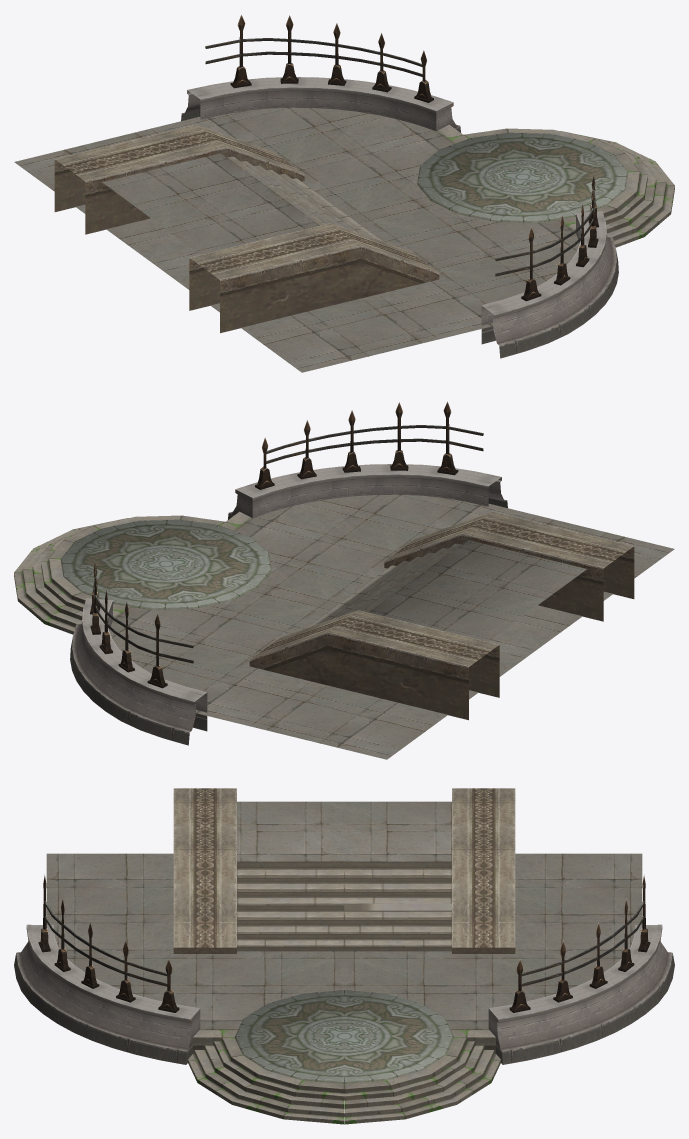
Rendered from zc_zhanchang001_chushengdian02_55_28_4130out.fbx.
3 views of the same model, one above another, from view 1: azimuth 30°, elevation 25°; view 2: azimuth 150°, elevation 25°; view 3: azimuth 270°, elevation 25° (orthographic). The views are drawn at different scales.
Visible parts, largest first — view 1: 0001_zc_zhanchang001_chushengdian02, 0002_zc_zhanchang001_chushengdian02, 0005_zc_zhanchang001_chushengdian02, 0003_zc_zhanchang001_chushengdian02, 0004_zc_zhanchang001_chushengdian02, 0000_zc_zhanchang001_chushengdian02; view 2: 0001_zc_zhanchang001_chushengdian02, 0002_zc_zhanchang001_chushengdian02, 0005_zc_zhanchang001_chushengdian02, 0003_zc_zhanchang001_chushengdian02, 0004_zc_zhanchang001_chushengdian02, 0000_zc_zhanchang001_chushengdian02; view 3: 0001_zc_zhanchang001_chushengdian02, 0005_zc_zhanchang001_chushengdian02, 0002_zc_zhanchang001_chushengdian02, 0000_zc_zhanchang001_chushengdian02, 0003_zc_zhanchang001_chushengdian02, 0004_zc_zhanchang001_chushengdian02.
Boxes of the visible parts, bbox=[...] form: 0001_zc_zhanchang001_chushengdian02: bbox=[14, 107, 579, 372]; 0002_zc_zhanchang001_chushengdian02: bbox=[54, 124, 439, 333]; 0005_zc_zhanchang001_chushengdian02: bbox=[181, 14, 618, 358]; 0003_zc_zhanchang001_chushengdian02: bbox=[417, 132, 628, 222]; 0004_zc_zhanchang001_chushengdian02: bbox=[438, 124, 674, 247]; 0000_zc_zhanchang001_chushengdian02: bbox=[227, 156, 383, 241]; 0001_zc_zhanchang001_chushengdian02: bbox=[109, 494, 674, 759]; 0002_zc_zhanchang001_chushengdian02: bbox=[249, 511, 634, 720]; 0005_zc_zhanchang001_chushengdian02: bbox=[70, 401, 507, 745]; 0003_zc_zhanchang001_chushengdian02: bbox=[60, 519, 271, 609]; 0004_zc_zhanchang001_chushengdian02: bbox=[14, 511, 250, 634]; 0000_zc_zhanchang001_chushengdian02: bbox=[305, 543, 461, 628]; 0001_zc_zhanchang001_chushengdian02: bbox=[46, 801, 642, 1029]; 0005_zc_zhanchang001_chushengdian02: bbox=[14, 874, 674, 1064]; 0002_zc_zhanchang001_chushengdian02: bbox=[173, 788, 515, 953]; 0000_zc_zhanchang001_chushengdian02: bbox=[237, 861, 451, 951]; 0003_zc_zhanchang001_chushengdian02: bbox=[234, 990, 454, 1083]; 0004_zc_zhanchang001_chushengdian02: bbox=[188, 1030, 500, 1124].
Size of the model in its own units: 18.27 by 3.72 by 19.51.
